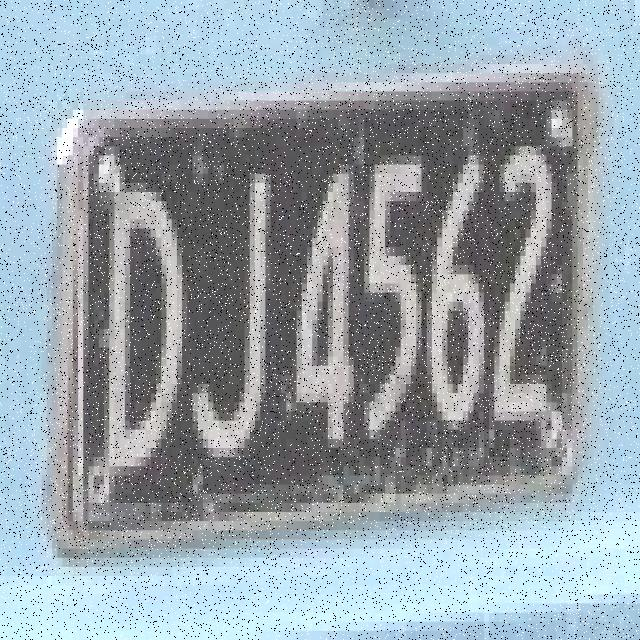licenseplate: (36, 36, 604, 566)
